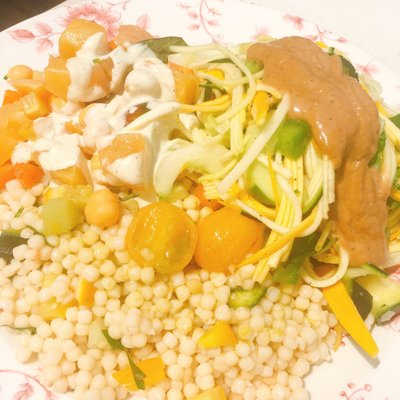pizza: (193, 205, 266, 273)
